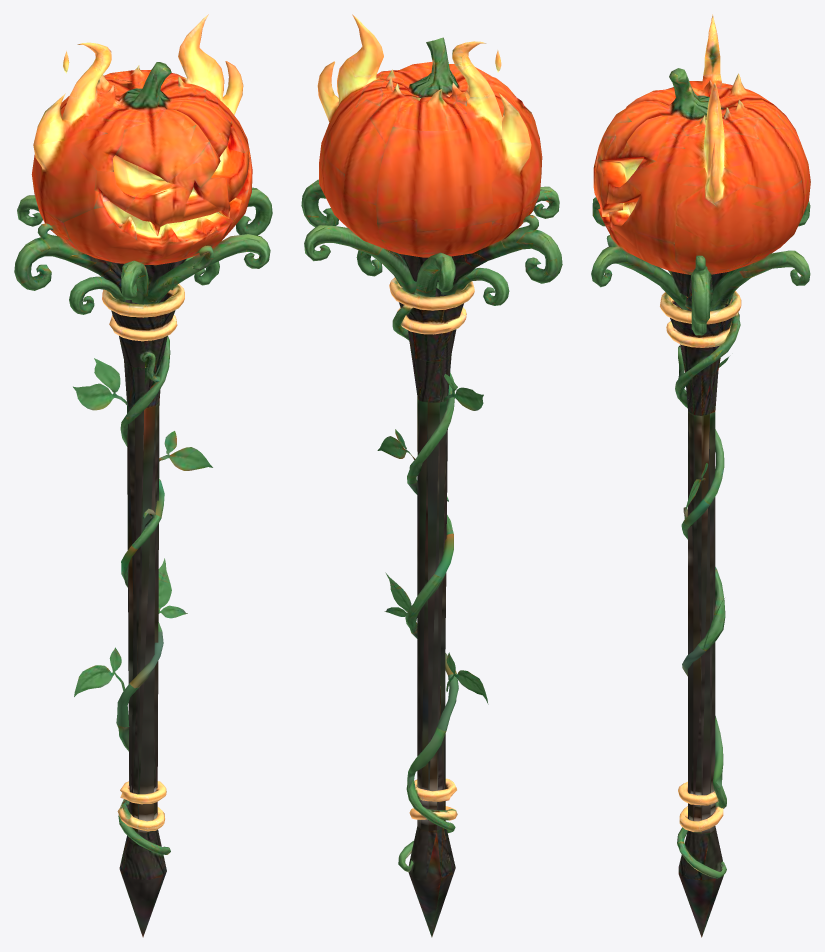
The model's file is staff_pumpkin.glb.
3 views of the same model, side by side, from view 1: azimuth 30°, elevation 25°; view 2: azimuth 150°, elevation 25°; view 3: azimuth 270°, elevation 25° (orthographic). The views are drawn at different scales.
Visible parts, largest first — view 1: staff_pumpkin; view 2: staff_pumpkin; view 3: staff_pumpkin.
Boxes of the visible parts, <box> form: staff_pumpkin: <box>14,14,272,937</box>; staff_pumpkin: <box>301,14,562,937</box>; staff_pumpkin: <box>591,14,810,937</box>.
Bounding box in the file's own units: 0.2937 × 1 × 0.223.
Materials: 1 (1 with a texture image).
